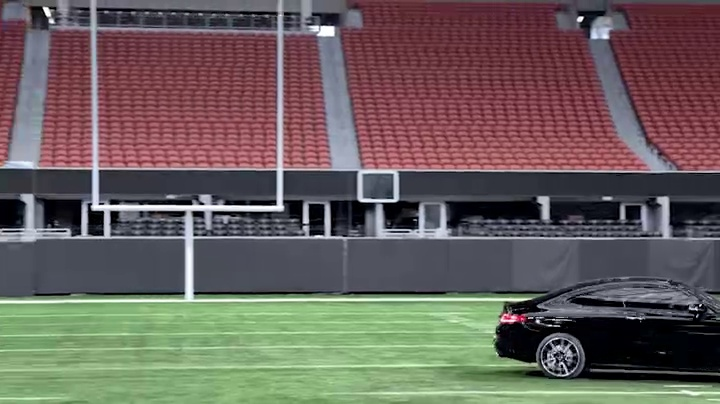amg: (494, 275, 720, 387)
